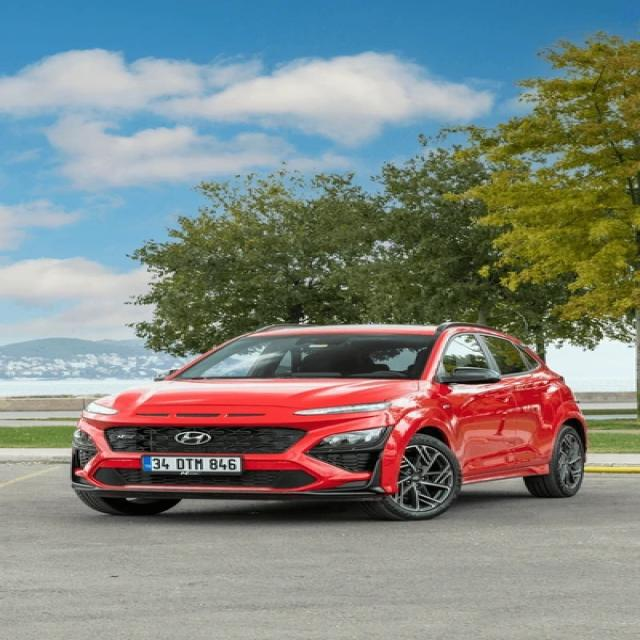hyundai: (169, 428, 220, 446)
